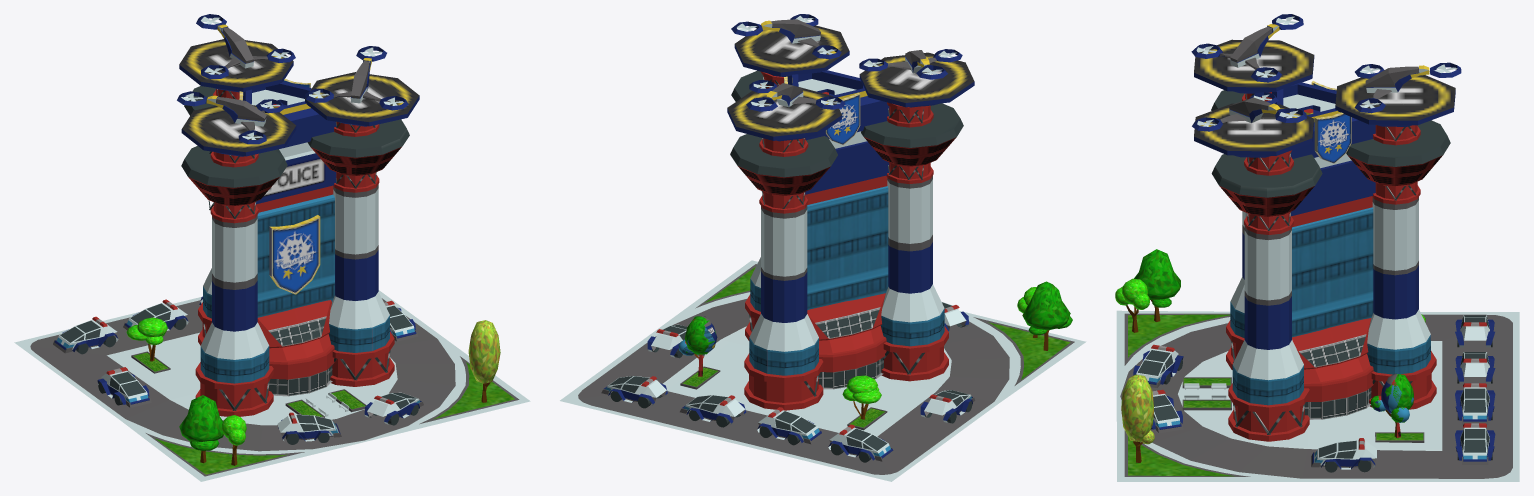
Rendered from policestation_LV3.fbx.
3 renders of one model, left to right at view 1: azimuth 30°, elevation 25°; view 2: azimuth 150°, elevation 25°; view 3: azimuth 270°, elevation 25°, orthographic. The views are drawn at different scales.
Visible parts, largest first — view 1: police 3; view 2: police 3; view 3: police 3.
Part boxes in pixels (x1,y1,x2,y2): police 3: (14, 14, 530, 481); police 3: (560, 14, 1086, 481); police 3: (1115, 14, 1519, 481).
Size of the model in its own units: 121 by 108 by 120.
